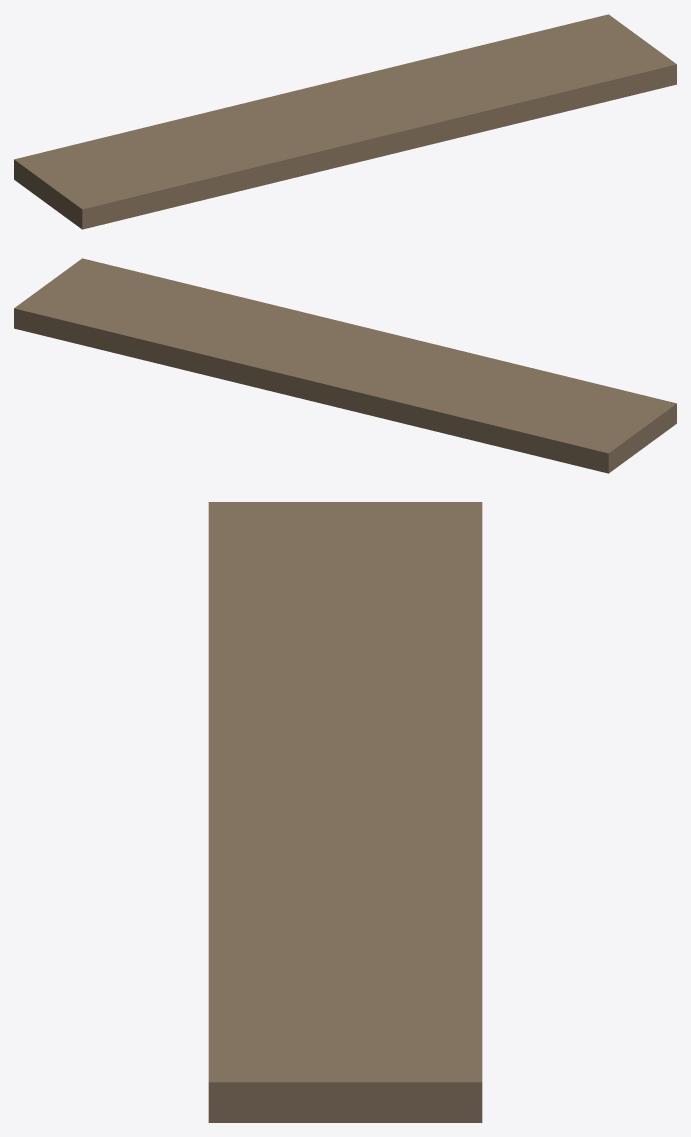
The picture shows the model from 3 angles, top to bottom: view 1: azimuth 30°, elevation 25°; view 2: azimuth 150°, elevation 25°; view 3: azimuth 270°, elevation 25°; orthographic projection. The views are drawn at different scales.
Parts seen in each view (by area): view 1: 西鼓台 · 南女墙 东 · 铜压顶; view 2: 西鼓台 · 南女墙 东 · 铜压顶; view 3: 西鼓台 · 南女墙 东 · 铜压顶.
Part boxes in pixels (bbox=[...]): 西鼓台 · 南女墙 东 · 铜压顶: bbox=[14, 14, 676, 229]; 西鼓台 · 南女墙 东 · 铜压顶: bbox=[14, 258, 676, 473]; 西鼓台 · 南女墙 东 · 铜压顶: bbox=[208, 502, 482, 1122].
Size of the model in its own units: 4.62 by 0.15 by 0.92.
